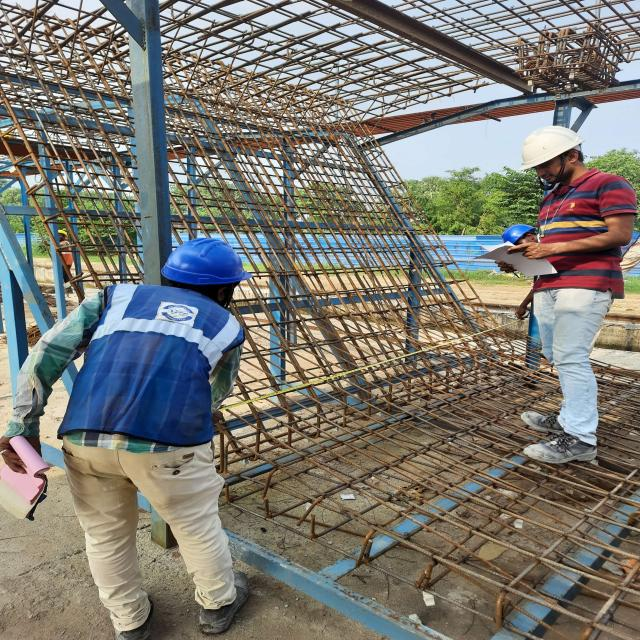Boots: (196, 582, 250, 632), (522, 432, 600, 465), (112, 596, 158, 640), (522, 406, 568, 435)
Hardhat: (152, 234, 248, 288), (514, 125, 583, 170)
No-safetyvest: (519, 173, 637, 299)
Person: (15, 232, 261, 640), (485, 131, 635, 465)
Safetyvest: (64, 286, 248, 448)
